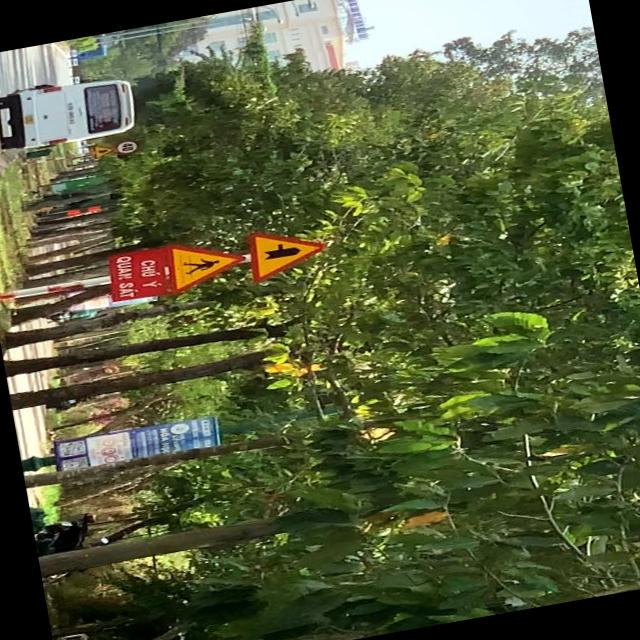W-207c: (245, 217, 333, 284)
W-224: (162, 230, 254, 294)
